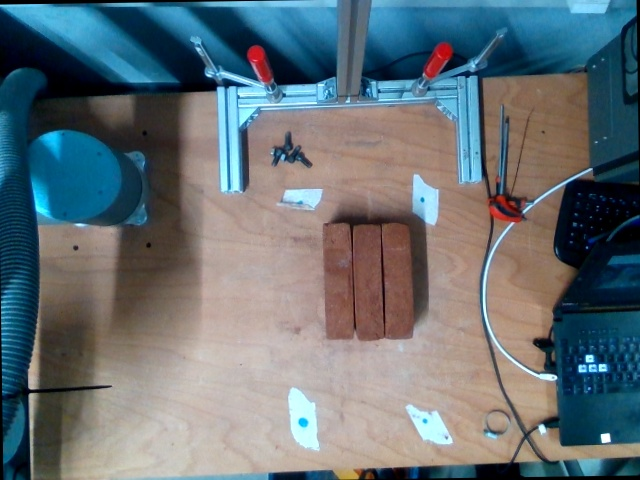brick-side: (352, 223, 384, 340), (382, 223, 414, 340), (323, 223, 352, 339)
